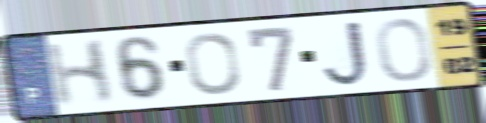6: (112, 34, 169, 104)
7: (242, 24, 296, 93)
H: (43, 37, 116, 110)
J: (320, 18, 372, 90)
O: (373, 15, 434, 84), (182, 30, 243, 97)
